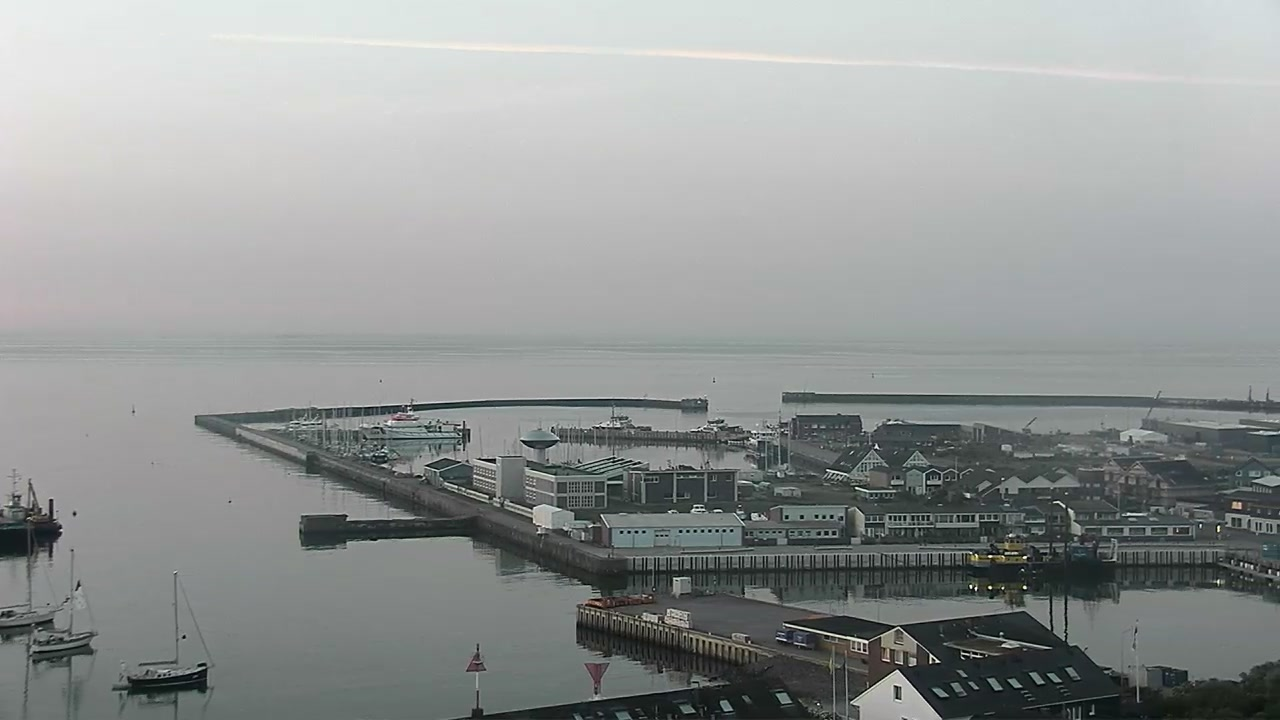sea: (107, 566, 213, 693), (27, 547, 97, 652), (1, 519, 61, 627), (1, 467, 63, 551), (358, 397, 463, 441), (366, 377, 401, 468), (588, 402, 652, 431), (686, 416, 753, 433)
